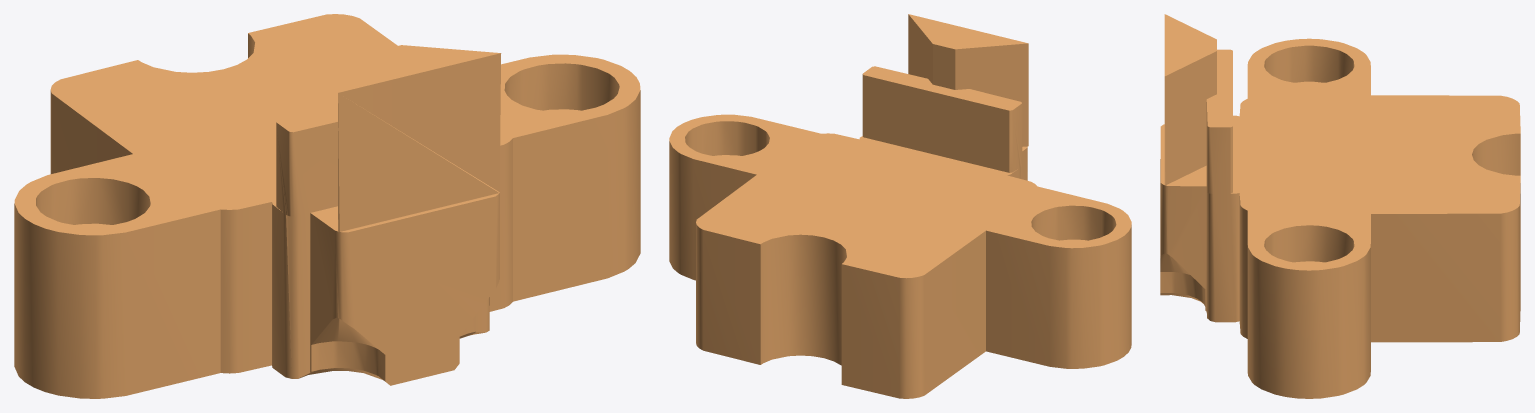
The model's file is pro-steer-bridge.glb.
3 renders of one model, left to right at view 1: azimuth 30°, elevation 25°; view 2: azimuth 150°, elevation 25°; view 3: azimuth 270°, elevation 25°, orthographic. The views are drawn at different scales.
Parts seen in each view (by area): view 1: pro-steer-bridge; view 2: pro-steer-bridge; view 3: pro-steer-bridge.
Boxes of the visible parts, left/top/right/bottom form: pro-steer-bridge: left=14, top=14, right=640, bottom=398; pro-steer-bridge: left=669, top=14, right=1131, bottom=398; pro-steer-bridge: left=1160, top=14, right=1520, bottom=398.
Bounding box in the file's own units: 0.0484 × 0.0232 × 0.0318.
